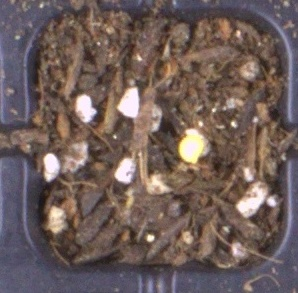chilli seed: (178, 135, 204, 165)
